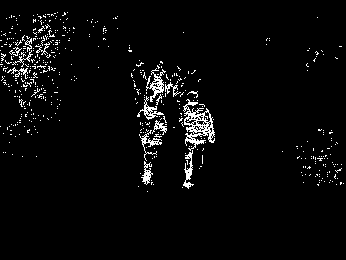person: (180, 91, 215, 188), (137, 98, 167, 186), (149, 61, 174, 99), (128, 57, 148, 99), (171, 63, 186, 97)
